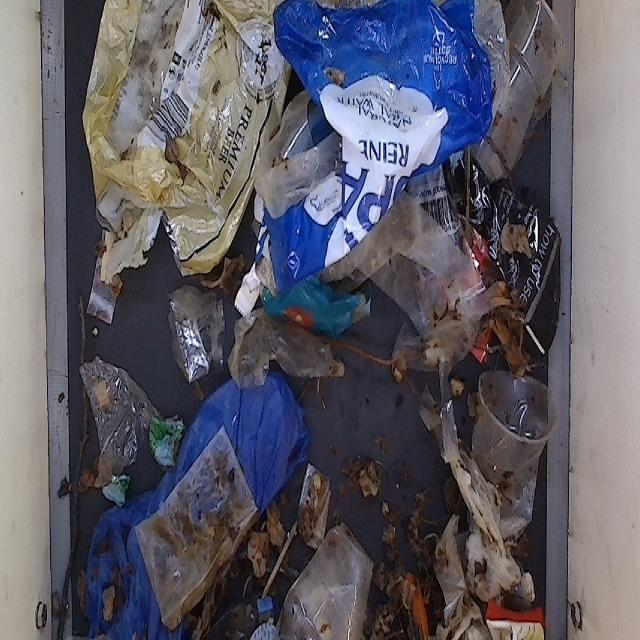food_wrapping: (270, 0, 508, 274), (73, 1, 297, 284), (406, 387, 551, 640), (447, 140, 567, 358)
plastic_cups: (464, 348, 560, 540), (473, 0, 567, 180), (290, 510, 380, 640)
plastic_films: (339, 183, 491, 369), (130, 439, 262, 620), (214, 286, 348, 414), (77, 356, 163, 504), (161, 275, 232, 393), (302, 471, 330, 556)
undef_hard_plastic: (82, 252, 122, 338)
